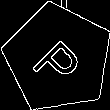P_NE: (27, 27, 88, 89)
